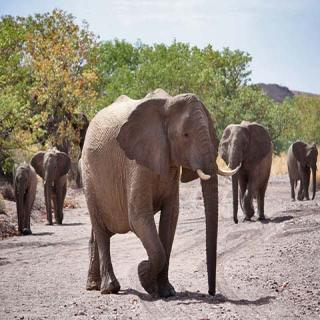Elephant: (80, 86, 231, 305), (218, 116, 276, 228), (34, 141, 72, 232), (10, 155, 40, 241), (286, 134, 319, 207)
